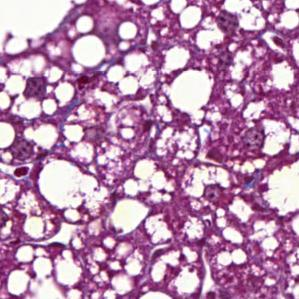steatosis: (69, 33, 108, 70)
